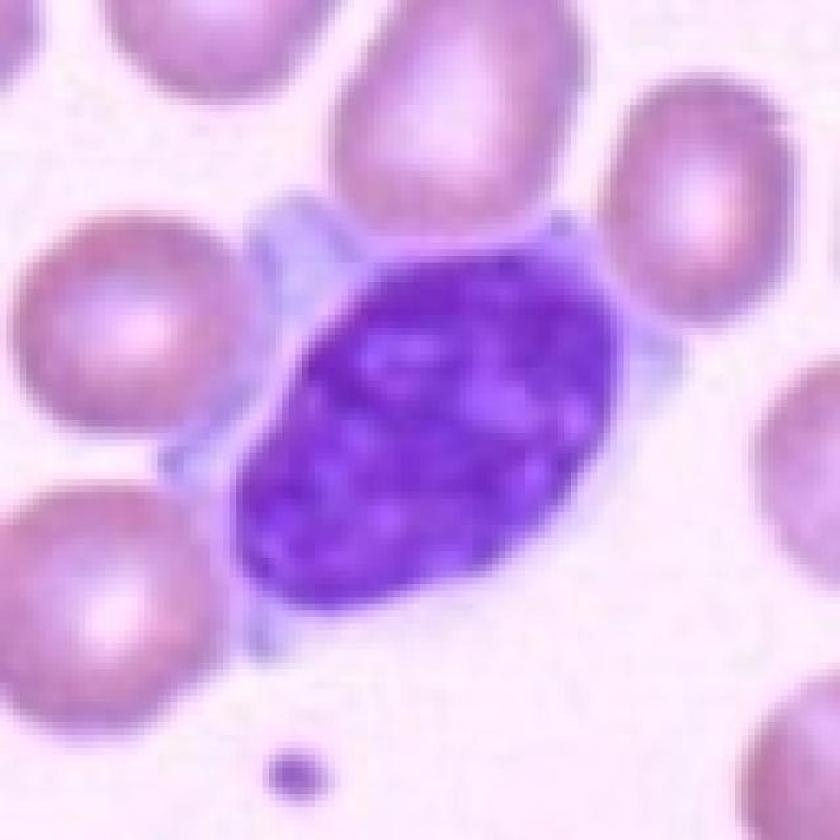lymphocyte: (151, 168, 705, 674)
